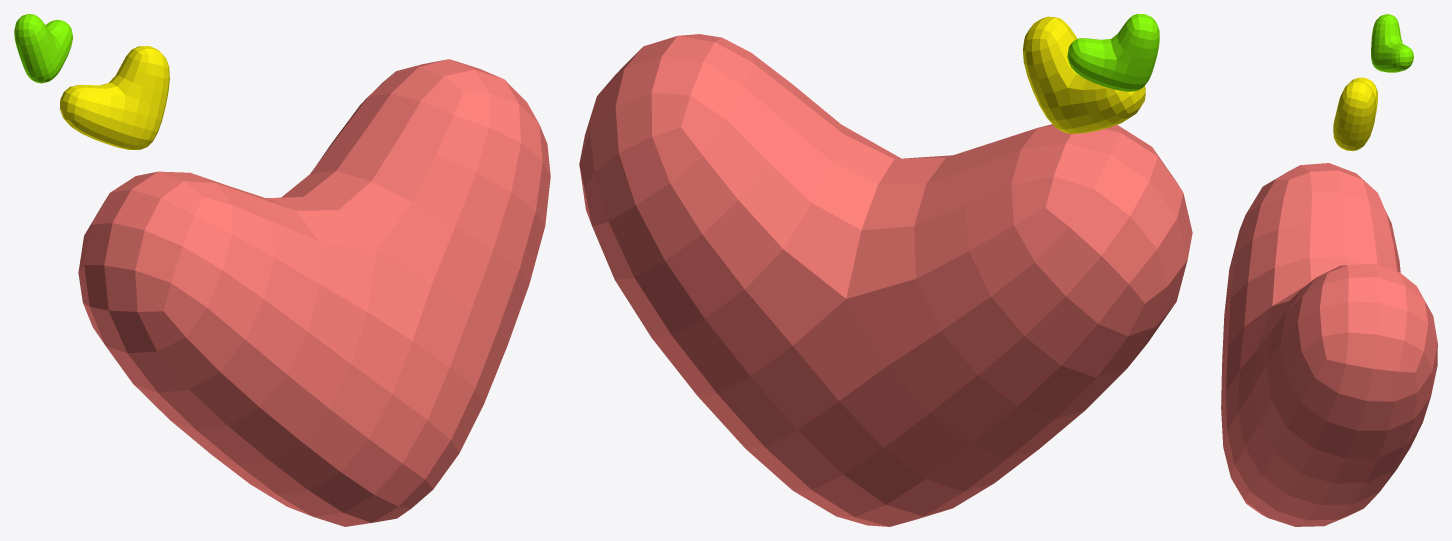
The model's file is Hearts.glb.
3 renders of one model, left to right at view 1: azimuth 30°, elevation 25°; view 2: azimuth 150°, elevation 25°; view 3: azimuth 270°, elevation 25°, orthographic. The views are drawn at different scales.
Visible parts, largest first — view 1: Heart, SmallHeart01, SmallHeart02; view 2: Heart, SmallHeart01, SmallHeart02; view 3: Heart, SmallHeart01, SmallHeart02.
Part boxes in pixels (left/top/right/bottom): Heart: left=78, top=59, right=550, bottom=526; SmallHeart01: left=60, top=46, right=169, bottom=149; SmallHeart02: left=14, top=14, right=72, bottom=83; Heart: left=579, top=34, right=1192, bottom=526; SmallHeart01: left=1023, top=16, right=1145, bottom=133; SmallHeart02: left=1067, top=14, right=1159, bottom=91; Heart: left=1221, top=163, right=1437, bottom=526; SmallHeart01: left=1333, top=77, right=1377, bottom=151; SmallHeart02: left=1371, top=14, right=1413, bottom=72.
Bounding box in the file's own units: 4.21 × 4.28 × 2.07.
